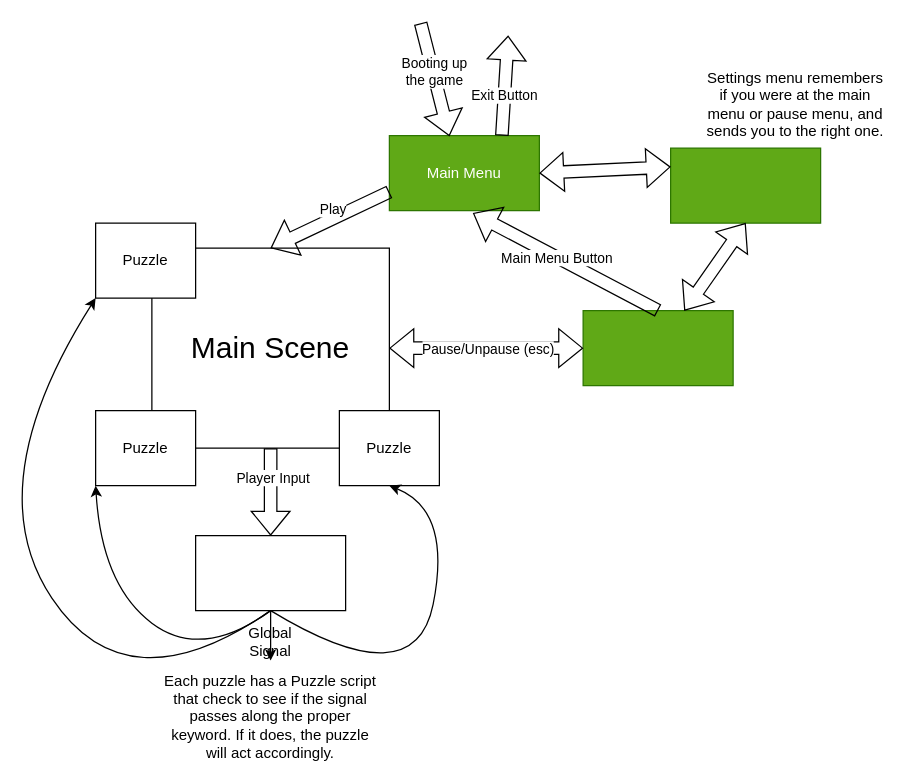
This 911x784 diagram has some shape labels left out. The shapes that lost their labels are listed below. From the top down, each one's centre as x and y in pixels, then its label:
(745,185): Settings Menu
(657,347): Pause Menu
(270,572): Global Handler Script
